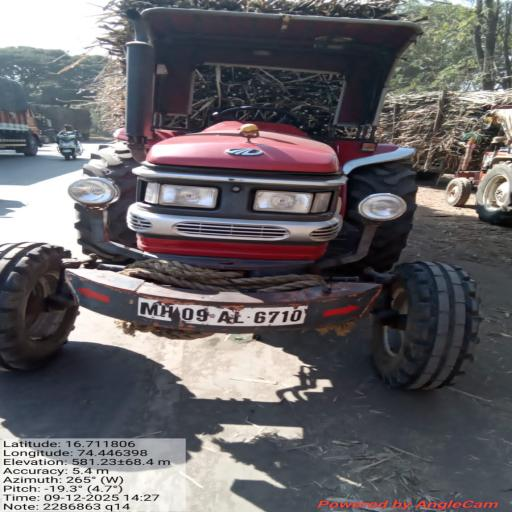number_plate: (116, 301, 326, 336)
